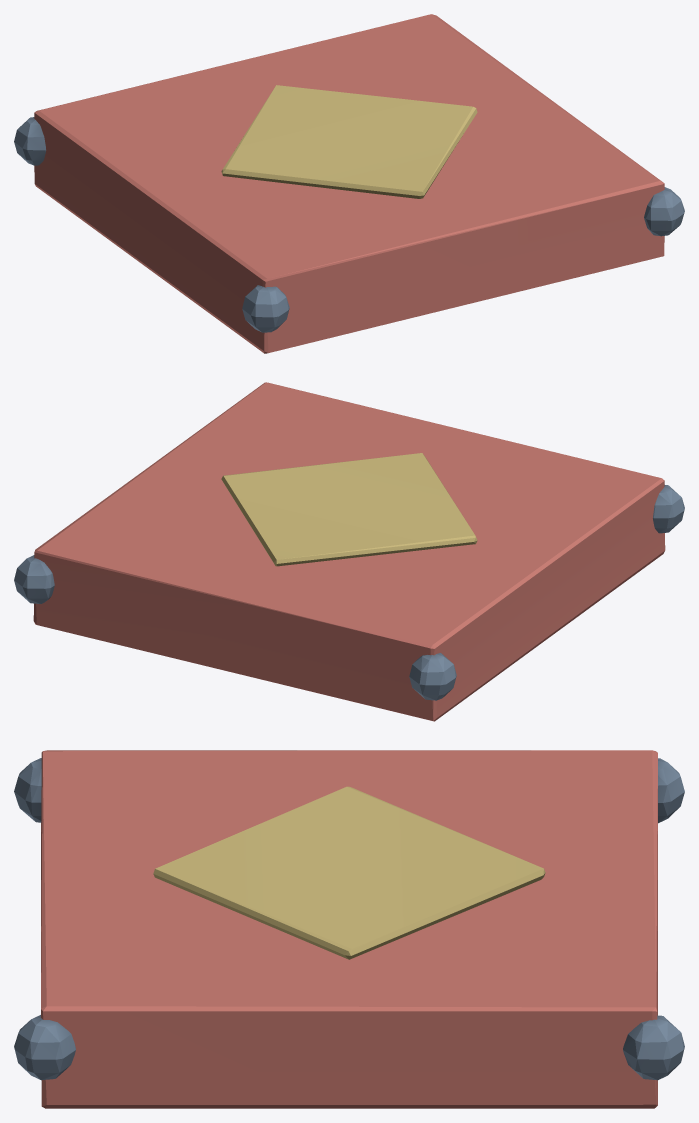
File: furn_floor_cushion__red_low.glb
3 views of the same model, one above another, from view 1: azimuth 30°, elevation 25°; view 2: azimuth 150°, elevation 25°; view 3: azimuth 270°, elevation 25° (orthographic). The views are drawn at different scales.
Bounding box in the file's own units: 0.592 × 0.1092 × 0.5963.
